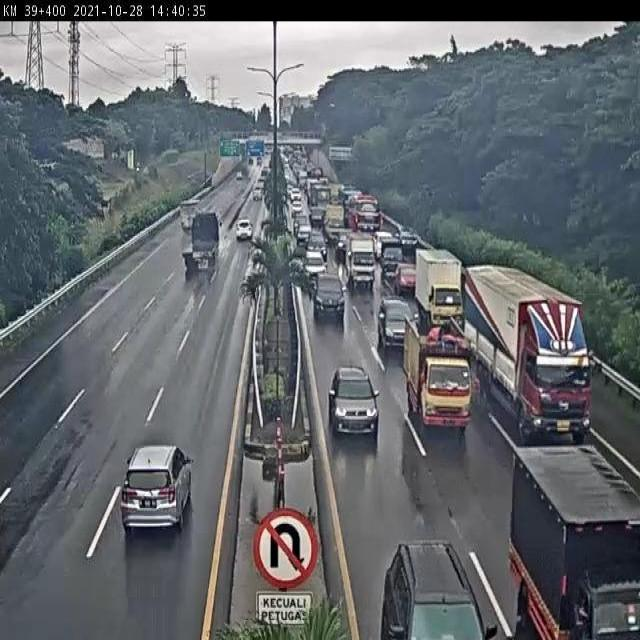big truck: (180, 210, 223, 270)
car: (122, 444, 193, 536), (329, 362, 378, 434), (377, 295, 421, 356), (313, 272, 347, 320), (300, 248, 327, 287), (395, 263, 419, 293), (234, 218, 254, 242)
small truck: (179, 198, 202, 234)
truck-l-: (462, 262, 591, 438)
truck-m-: (404, 316, 473, 431), (414, 247, 465, 331)
truck-s-: (344, 232, 377, 288)
